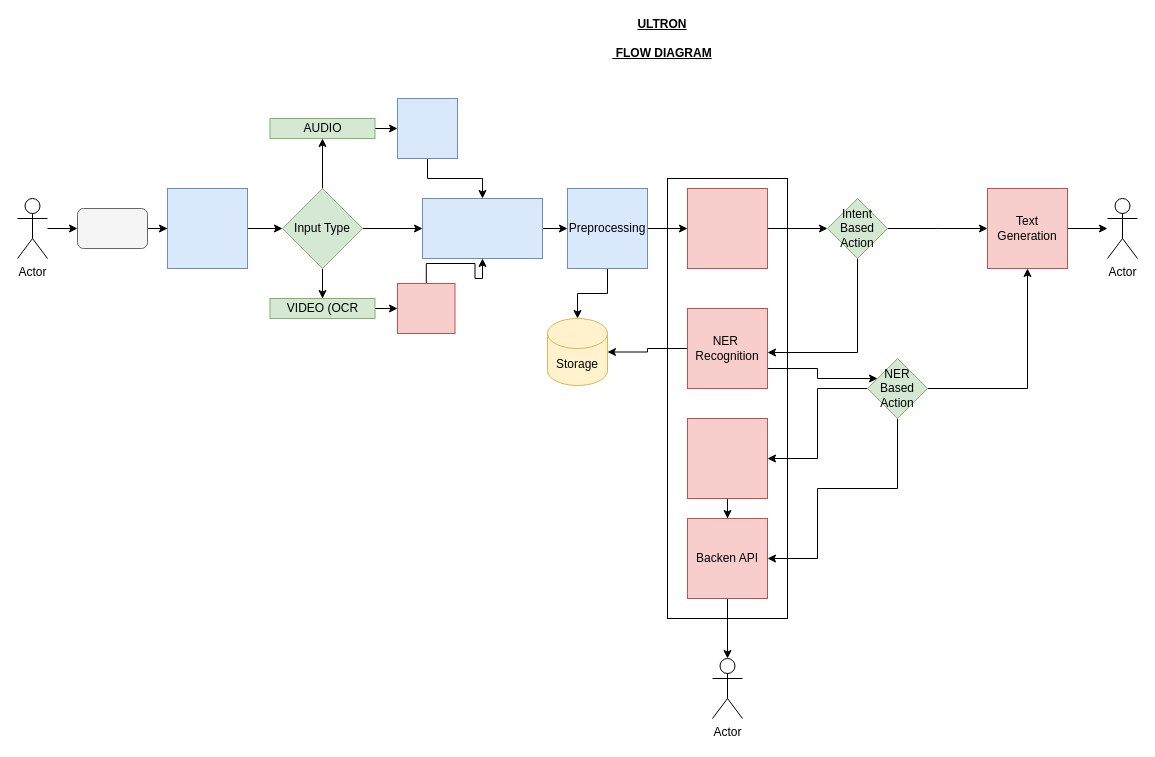
This 1155x757 diagram has some shape labels left out. The shapes that lost their labels are listed below. From the top down, each one's centre as x and y in pixels, then its label:
At (x=427, y=128): "Speech to Text Conversion".
At (x=112, y=228): "START".
At (x=207, y=228): "Infromation Extraction from UI of the Chat bot".
At (x=482, y=228): "Text".
At (x=727, y=228): "Intent Classification".
At (x=425, y=308): "AWS Textract".
At (x=727, y=458): "Text Summarization".
